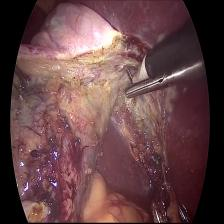Grasper: (123, 73, 174, 109), (14, 64, 30, 101)
Hook: (123, 52, 151, 84)
